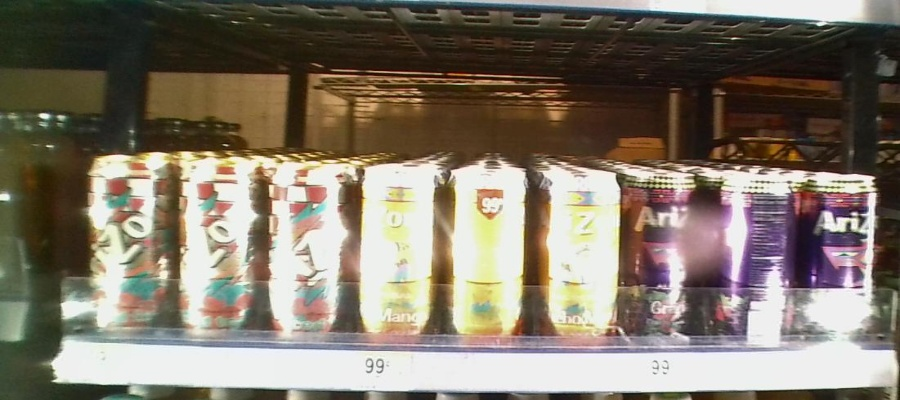bottle: (175, 148, 261, 343), (265, 149, 349, 347), (85, 143, 170, 338), (356, 159, 441, 347), (535, 163, 620, 347), (446, 156, 527, 341), (717, 169, 799, 348), (802, 162, 875, 346), (626, 160, 696, 343)
